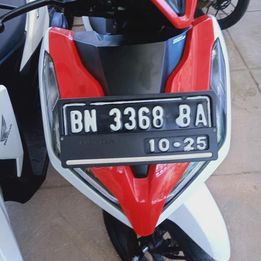plate: (56, 99, 216, 156)
